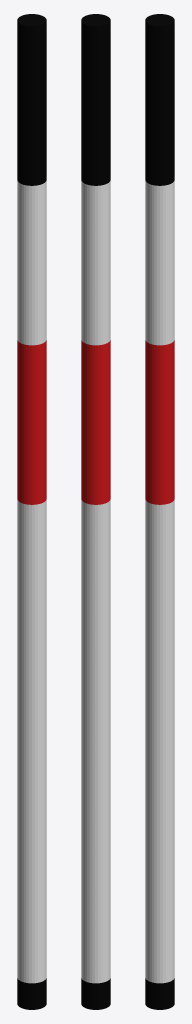
File: stick.fbx
3 renders of one model, left to right at view 1: azimuth 90°, elevation 25°; view 2: azimuth 210°, elevation 25°; view 3: azimuth 270°, elevation 25°, orthographic.
Parts seen in each view (by area): view 1: Cylinder.009; view 2: Cylinder.009; view 3: Cylinder.009.
Part boxes in pixels (x1=…): Cylinder.009: x1=17, y1=14, x2=46, y2=1009; Cylinder.009: x1=81, y1=14, x2=110, y2=1009; Cylinder.009: x1=145, y1=14, x2=174, y2=1009.
Size of the model in its own units: 200 by 7400 by 200.
